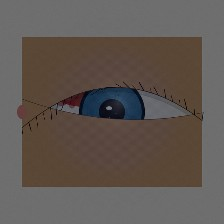hemorrhage_spot: (45, 60, 136, 133)
